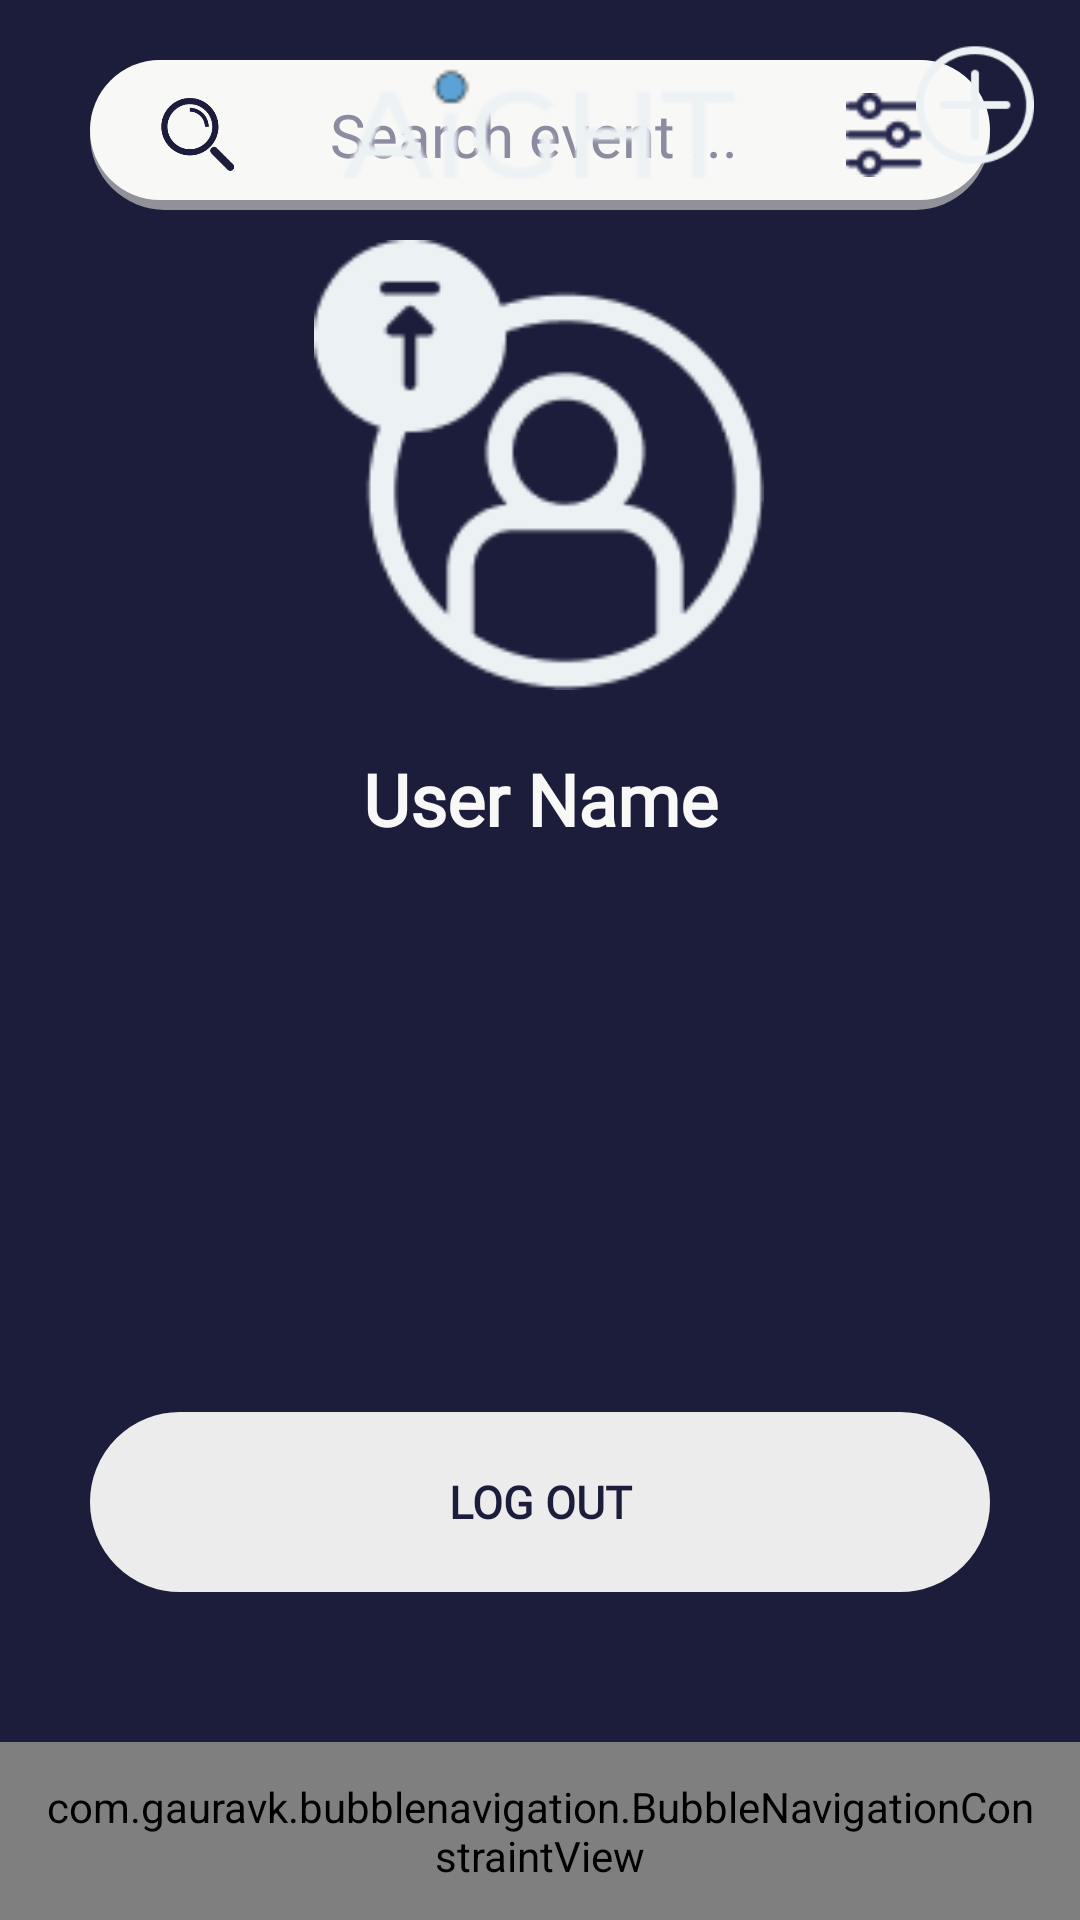

Point at icon controls on the screen. Image size 1080×1920, points as [x,y].
filters: [884,135]
post: [974,105]
